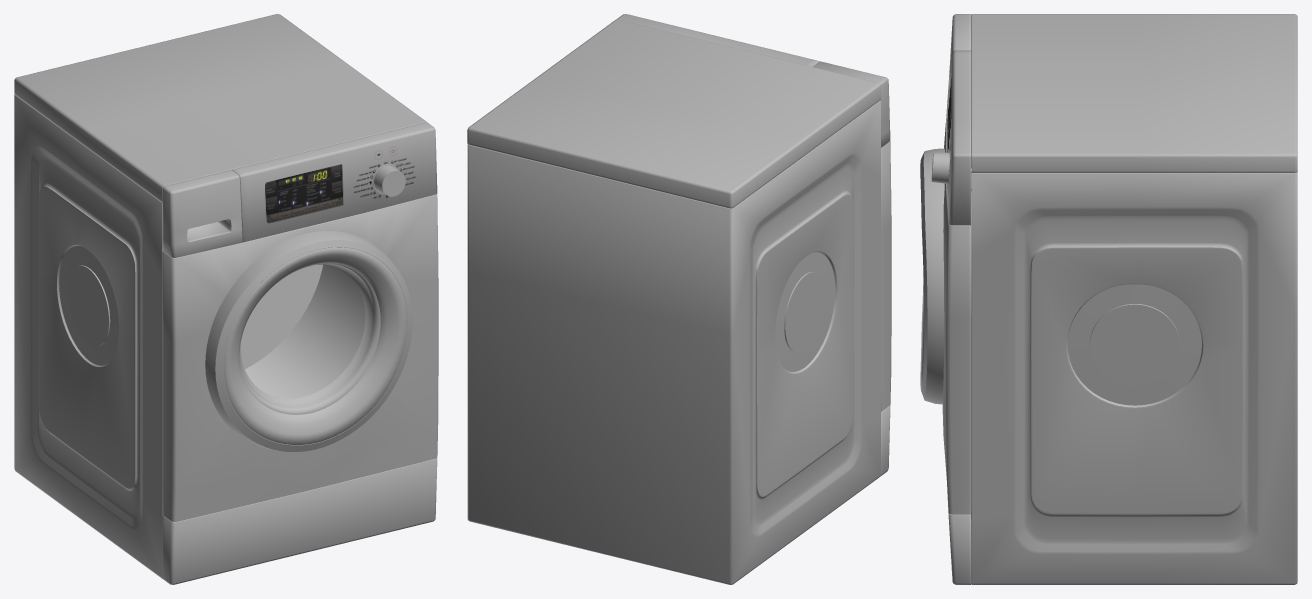
Rendered from visual_LowPoly_17_ClothesWasher.dae.
3 views of the same model, side by side, from view 1: azimuth 30°, elevation 25°; view 2: azimuth 150°, elevation 25°; view 3: azimuth 270°, elevation 25° (orthographic). The views are drawn at different scales.
Visible parts, largest first — view 1: SM_clothes_washer; view 2: SM_clothes_washer; view 3: SM_clothes_washer.
Part boxes in pixels (box(x1,y1,x2,y2)): SM_clothes_washer: box(14, 14, 438, 584); SM_clothes_washer: box(467, 14, 891, 584); SM_clothes_washer: box(920, 14, 1297, 584).
Size of the model in its own units: 60.07 by 67.51 by 85.07.
1 material, 1 textured.
